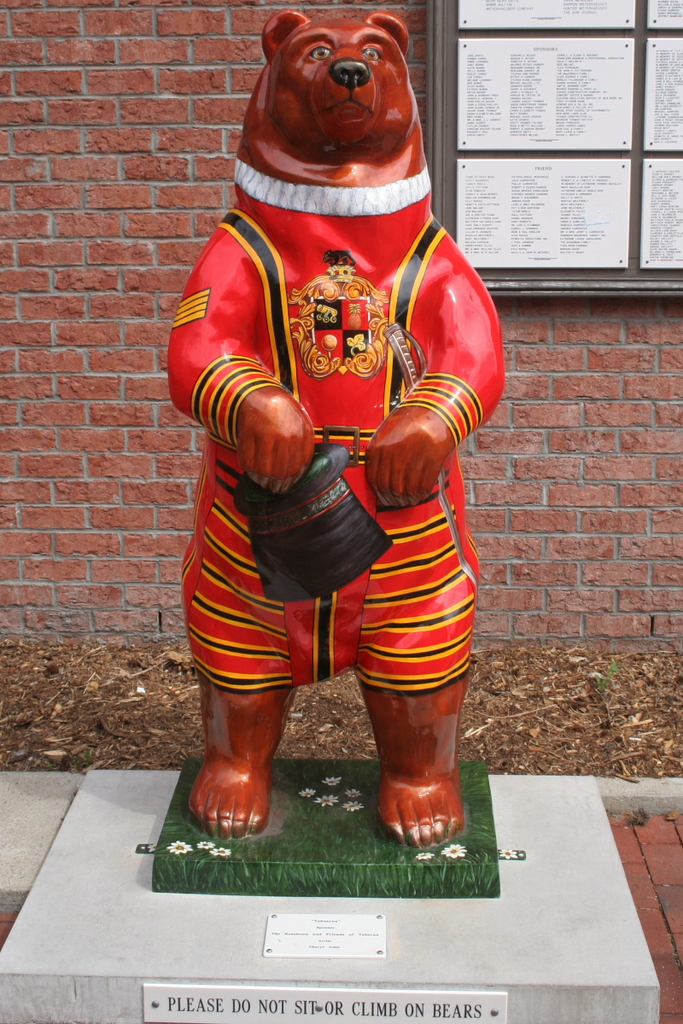face: (288, 17, 396, 147)
